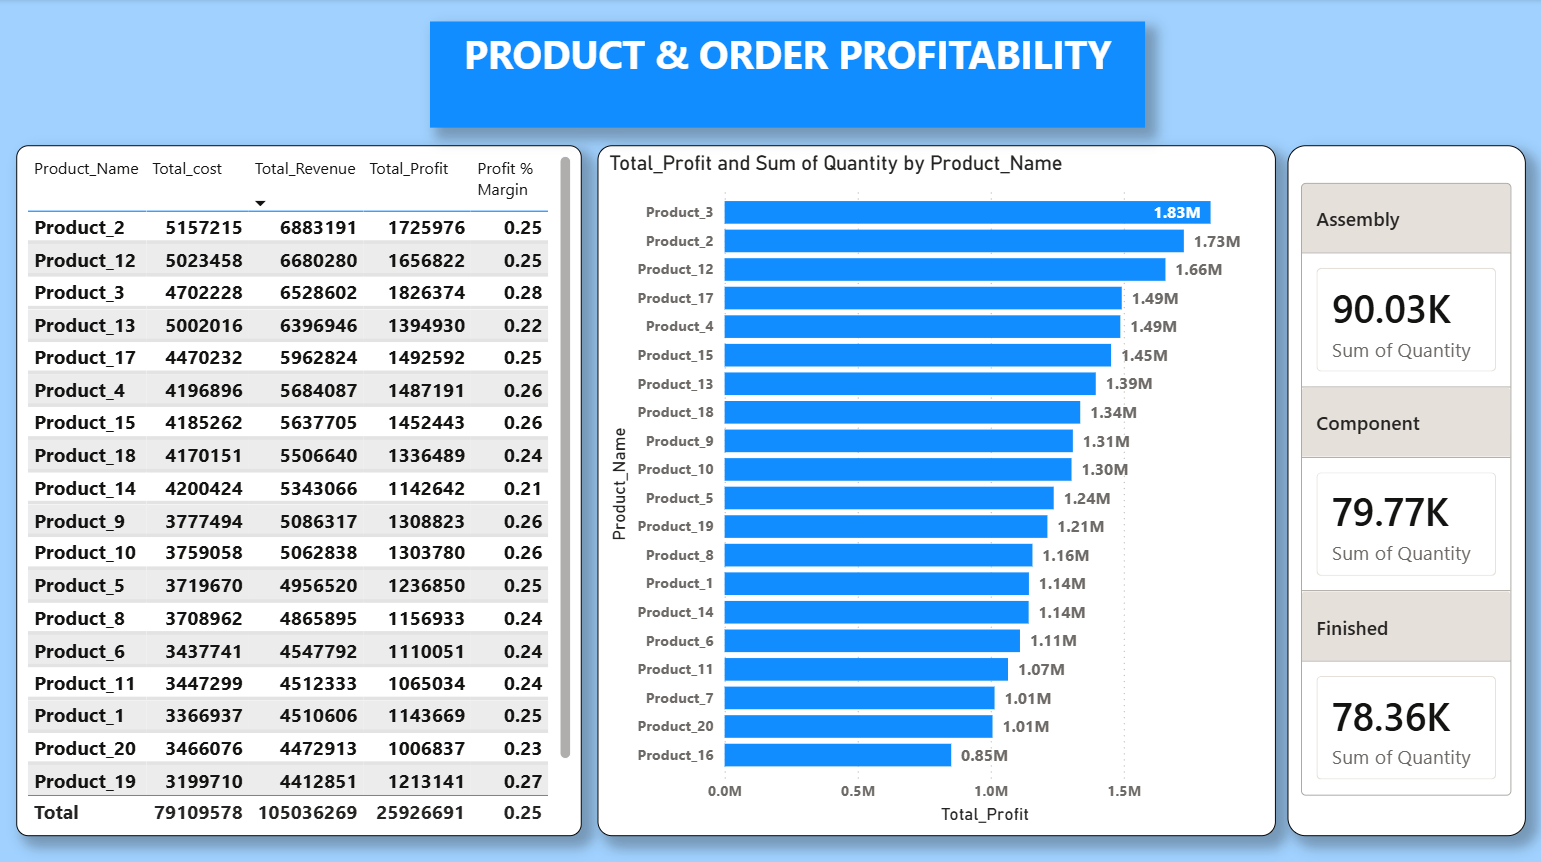

This screenshot's page, from the dashboard's own definition file:
{"tool":"powerbi","page":{"name":"PRODUCT & ORDER PROFITABILITY","canvas":[1280,720],"ordinal":1},"visuals":[{"type":"tableEx","fields":{"Values":["factory_products.Product_Name","factory_order_lines_1000.Total_cost","factory_order_lines_1000.Total_Revenue","factory_order_lines_1000.Total_Profit","factory_order_lines_1000.Profit % Margin"]},"box":[13,121.2,468.9,572.8],"z":0},{"type":"barChart","fields":{"Category":["factory_products.Product_Name"],"Y":["factory_order_lines_1000.Total_Profit"]},"box":[494.9,121.2,562.7,572.8],"z":1000},{"type":"cardVisual","fields":{"Data":["Sum(factory_order_lines_1000.Quantity)"],"Rows":["factory_products.Category"]},"box":[1067.6,121.2,197.7,572.8],"z":2000},{"type":"textbox","box":[356.4,18.8,593,88],"z":3000}]}

Visuals, with their boxes in screenshot pixels (x1, y1, x2, y2), scaled from the page's 1280x720 canvas onto the 1541x862 screenshot:
tableEx - factory_products.Product_Name x factory_order_lines_1000.Total_cost: bbox=[16, 145, 580, 831]
barChart - factory_products.Product_Name x factory_order_lines_1000.Total_Profit: bbox=[596, 145, 1273, 831]
cardVisual - Sum(factory_order_lines_1000.Quantity) x factory_products.Category: bbox=[1285, 145, 1523, 831]
textbox: bbox=[429, 23, 1143, 128]
